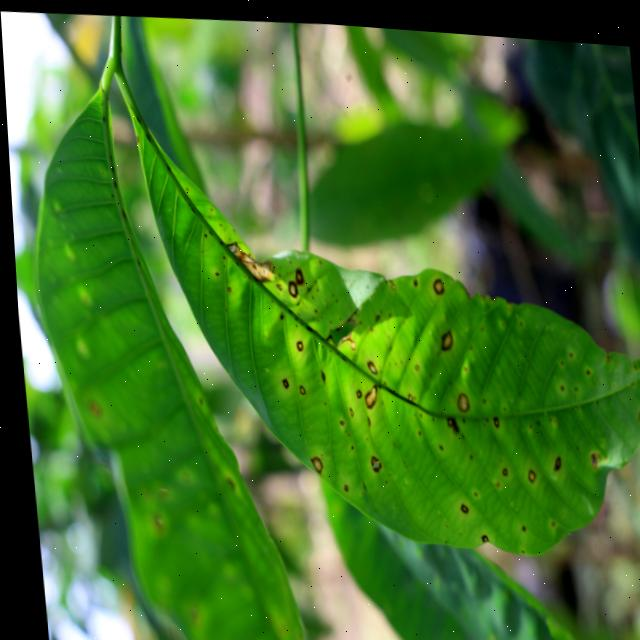Colletotrichum: (451, 386, 465, 406), (436, 324, 450, 343), (305, 451, 318, 469), (364, 450, 377, 467), (429, 271, 442, 288), (283, 276, 295, 293), (363, 355, 373, 369), (522, 461, 530, 474), (454, 496, 463, 506), (277, 374, 284, 384), (292, 336, 298, 346), (294, 380, 300, 390), (351, 384, 356, 393)
